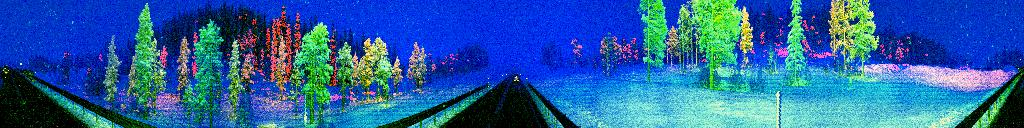pole: (775, 88, 782, 128), (303, 91, 308, 128)
